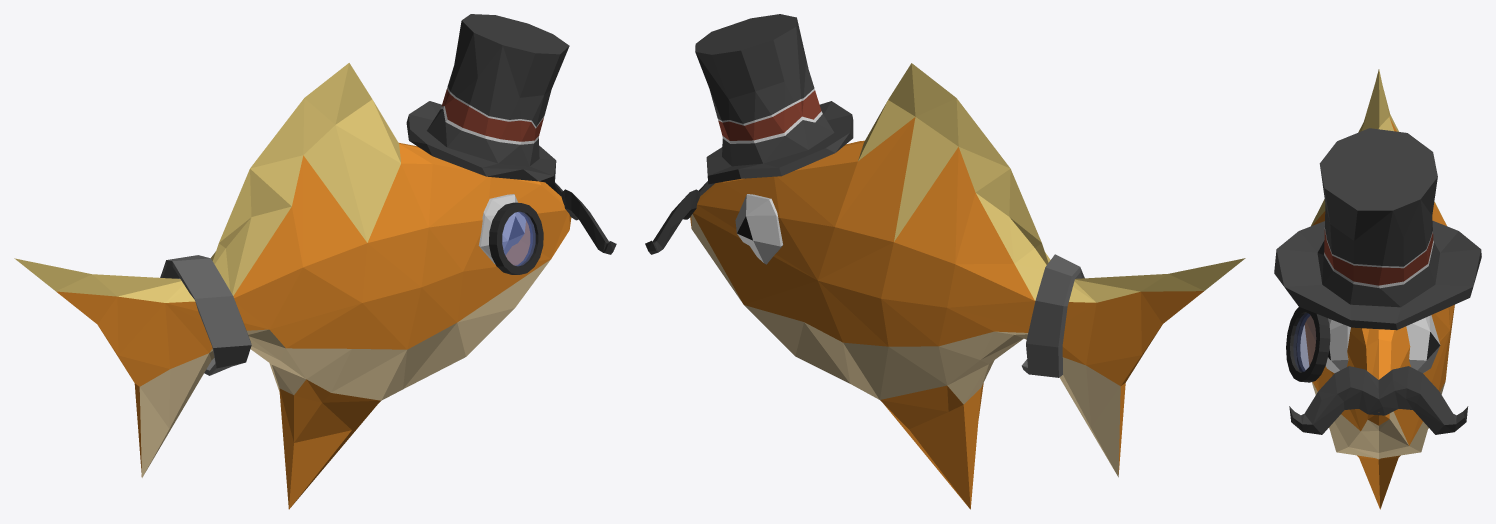
The model's file is Gentle-Fish.fbx.
3 views of the same model, side by side, from view 1: azimuth 30°, elevation 25°; view 2: azimuth 150°, elevation 25°; view 3: azimuth 270°, elevation 25° (orthographic). The views are drawn at different scales.
Visible parts, largest first — view 1: Plane, Cylinder.001, Plane.002, Cylinder.002, Sphere, Plane.003; view 2: Plane, Cylinder.001, Plane.002, Sphere, Plane.003; view 3: Cylinder.001, Plane, Plane.003, Cylinder.002, Sphere.
Part boxes in pixels (x1,y1,x2,y2): Plane: (14,63,571,509); Cylinder.001: (406,14,569,183); Plane.002: (160,255,251,375); Cylinder.002: (489,202,543,274); Sphere: (478,194,525,264); Plane.003: (545,182,616,254); Plane: (690,63,1245,509); Cylinder.001: (695,14,853,184); Plane.002: (1021,254,1084,377); Sphere: (735,194,782,264); Plane.003: (645,181,714,254); Cylinder.001: (1274,128,1481,330); Plane: (1305,69,1454,509); Plane.003: (1289,366,1468,434); Cylinder.002: (1286,307,1330,382); Sphere: (1325,315,1440,373).
Bounding box in the file's own units: 446 × 329 × 130.
